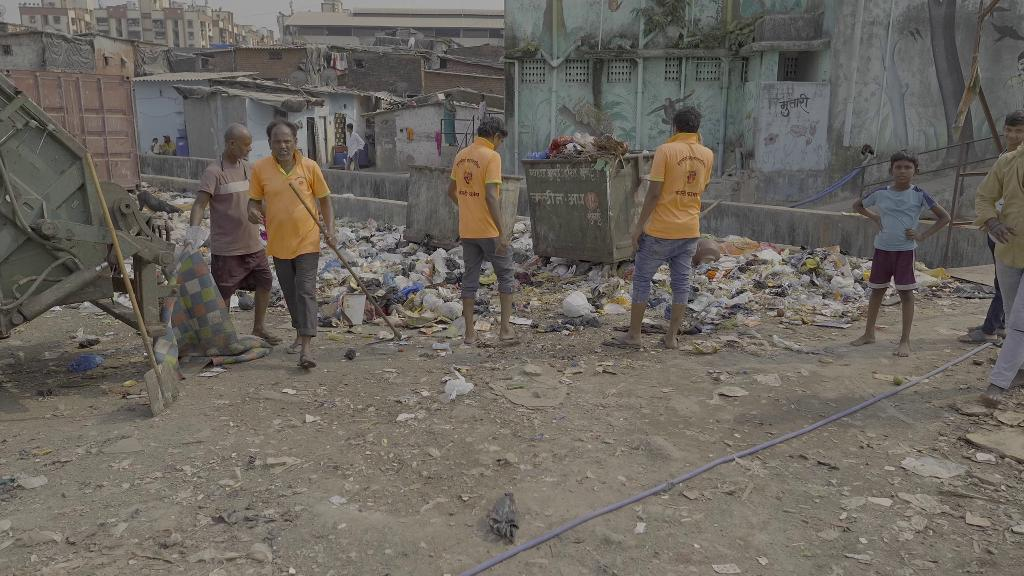dustbin: (523, 155, 649, 262)
garbage: (429, 291, 464, 322), (445, 368, 474, 403), (65, 352, 109, 374), (561, 291, 595, 318), (386, 282, 429, 303), (378, 269, 404, 292), (472, 315, 495, 331), (76, 336, 102, 350), (443, 256, 461, 274), (343, 346, 358, 360)
